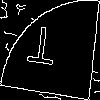T: (24, 24, 58, 75)
